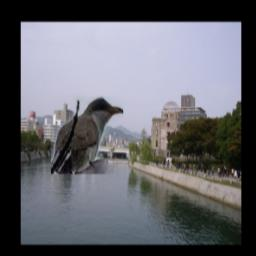Cuckoo: (51, 96, 123, 174)
